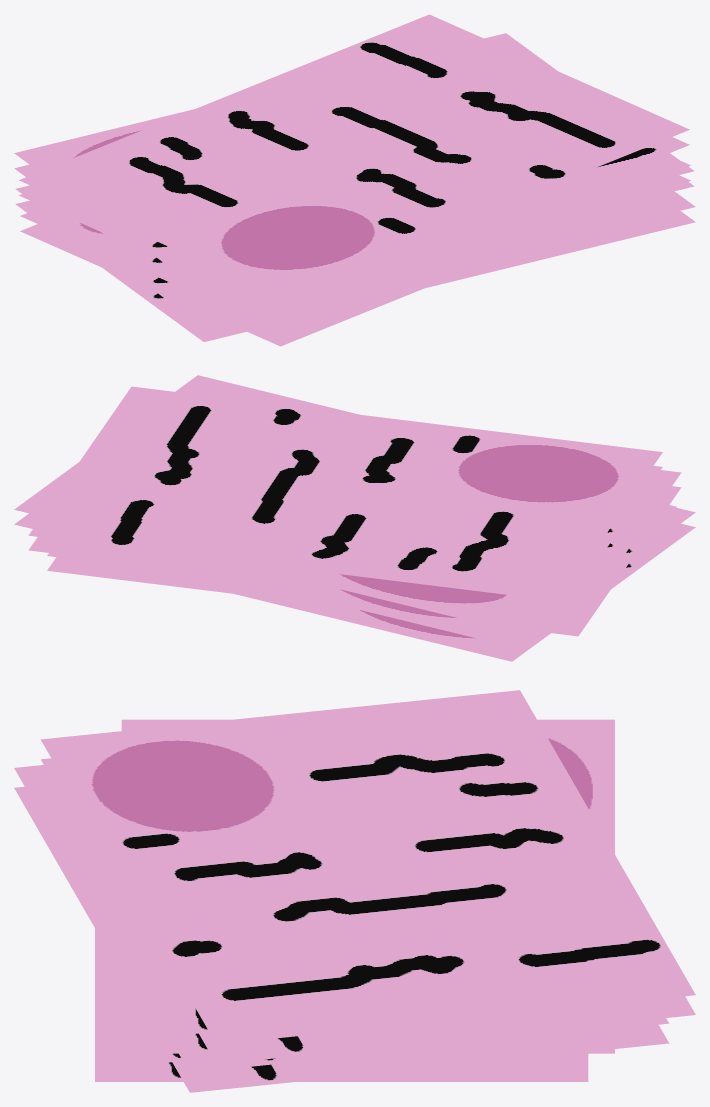
File: fichas.fbx
The picture shows the model from 3 angles, top to bottom: view 1: azimuth 30°, elevation 25°; view 2: azimuth 150°, elevation 25°; view 3: azimuth 270°, elevation 25°; orthographic projection. The views are drawn at different scales.
Visible parts, largest first — view 1: Plane.007, Plane.006, Plane.003, Plane.002, Plane.005, Plane.001, Plane, Plane.004; view 2: Plane.007, Plane.006, Plane.005, Plane.004, Plane.001, Plane, Plane.003, Plane.002; view 3: Plane.007, Plane.006, Plane.005, Plane.003, Plane.001, Plane.002, Plane.004, Plane.
Part boxes in pixels (x1=…): Plane.007: x1=19, y1=14, x2=689, y2=295; Plane.006: x1=14, y1=33, x2=694, y2=291; Plane.003: x1=20, y1=161, x2=690, y2=331; Plane.002: x1=15, y1=185, x2=695, y2=326; Plane.005: x1=19, y1=137, x2=689, y2=310; Plane.001: x1=20, y1=176, x2=690, y2=346; Plane: x1=15, y1=200, x2=695, y2=341; Plane.004: x1=14, y1=164, x2=694, y2=306; Plane.007: x1=28, y1=386, x2=662, y2=601; Plane.006: x1=14, y1=375, x2=676, y2=626; Plane.005: x1=28, y1=466, x2=662, y2=615; Plane.004: x1=14, y1=503, x2=676, y2=641; Plane.001: x1=47, y1=486, x2=681, y2=636; Plane: x1=235, y1=523, x2=695, y2=661; Plane.003: x1=47, y1=470, x2=681, y2=621; Plane.002: x1=235, y1=507, x2=695, y2=646; Plane.007: x1=40, y1=690, x2=695, y2=1044; Plane.006: x1=121, y1=719, x2=614, y2=1033; Plane.005: x1=41, y1=758, x2=695, y2=1064; Plane.003: x1=14, y1=765, x2=668, y2=1072; Plane.001: x1=14, y1=786, x2=669, y2=1092; Plane.002: x1=95, y1=909, x2=588, y2=1062; Plane.004: x1=121, y1=1033, x2=614, y2=1053; Plane: x1=95, y1=1062, x2=588, y2=1081.
Bounding box in the file's own units: 302 × 24.81 × 242.
